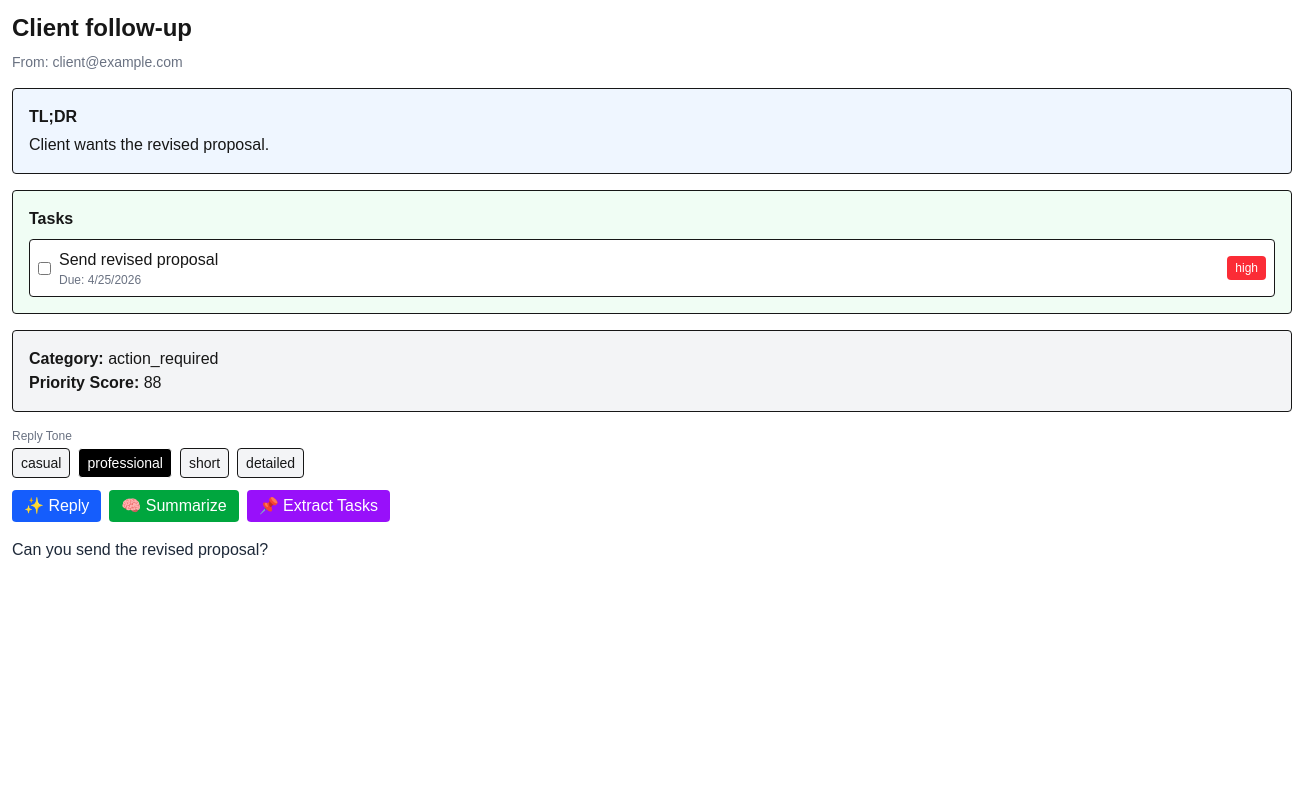
it: EmailDetail › renders a generated summary
Click the button "🧠 Summarize": (174,506) [109,490,239,522]
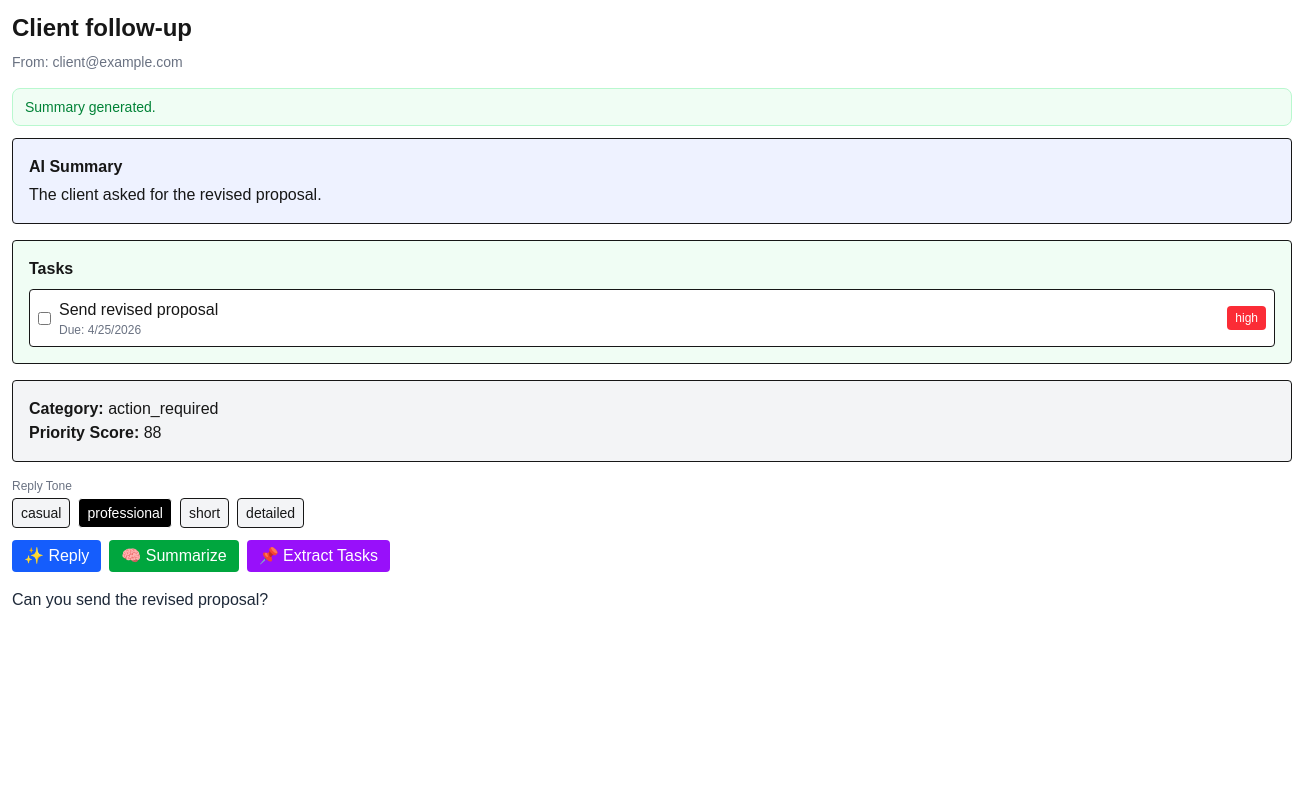
Check: the text "The client asked for the revised proposal." is shown, box [29,186,322,203]
